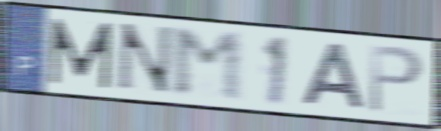1: (261, 34, 290, 109)
A: (296, 41, 369, 112)
M: (169, 27, 246, 104), (48, 16, 115, 91)
N: (111, 21, 177, 97)
P: (366, 42, 427, 117)
